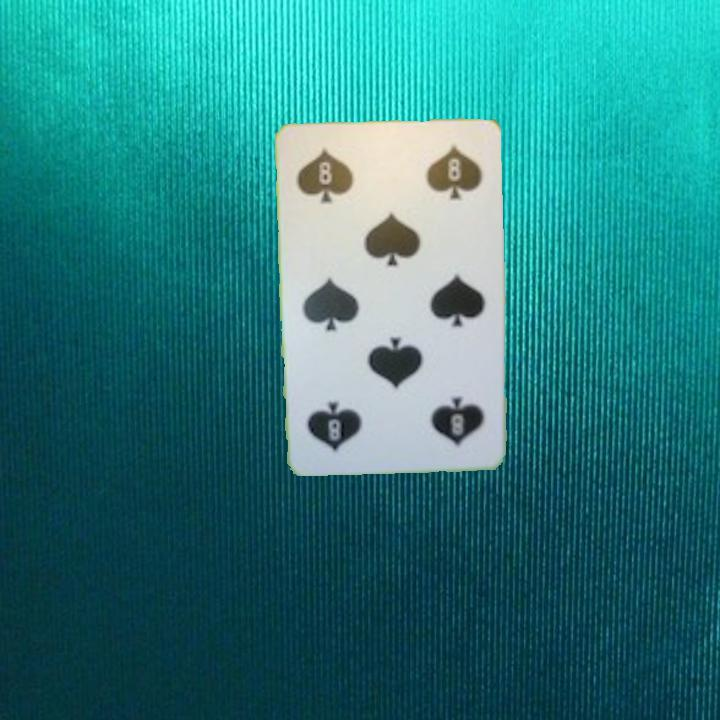s_8.png: (392, 369, 494, 457), (291, 136, 393, 224)
